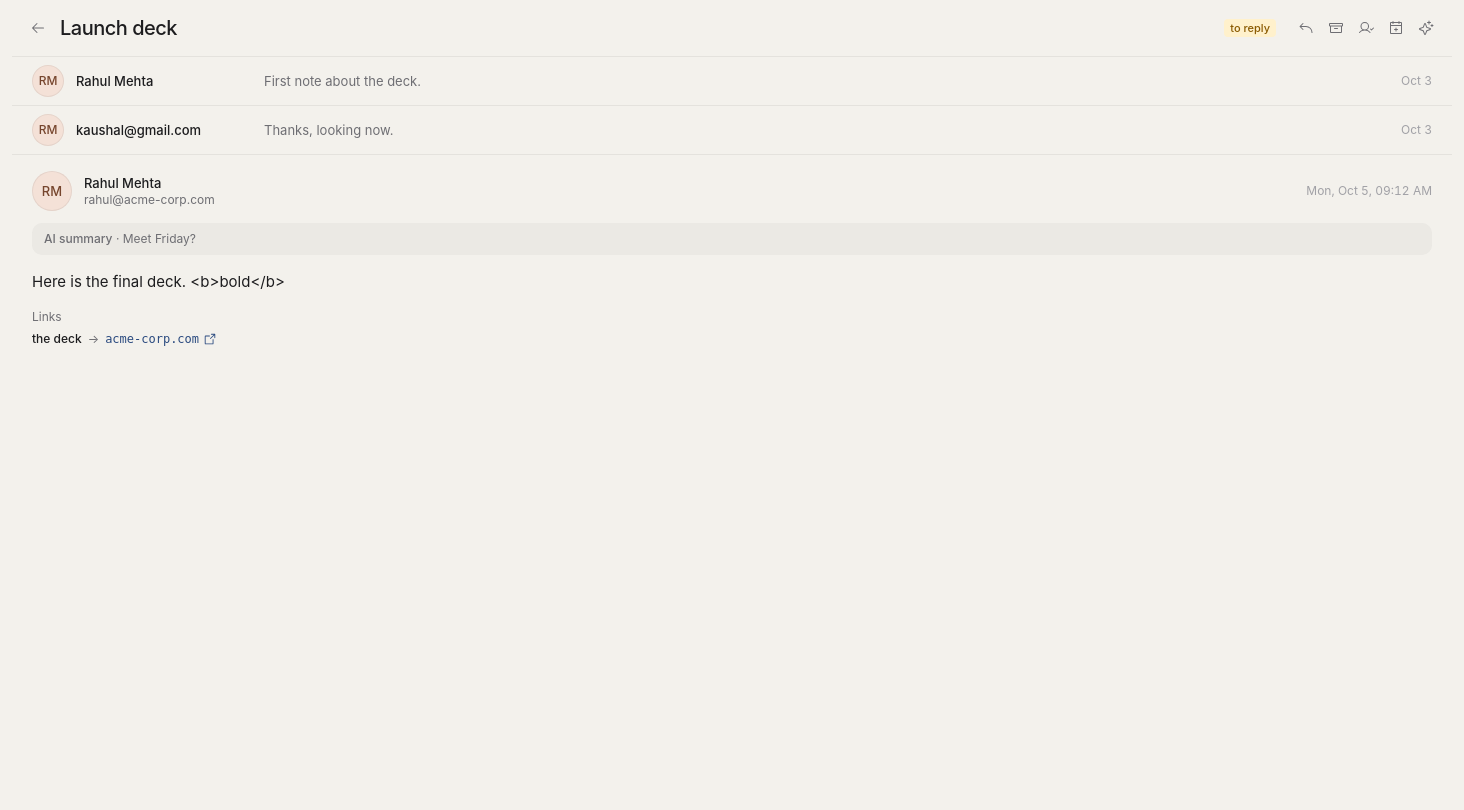
Scenario: ReadingView › offers Propose meeting only when times were found and saves the card
The image size is (1464, 810).
Click the button named "Propose meeting": (1396, 28) [1382,14,1410,42]
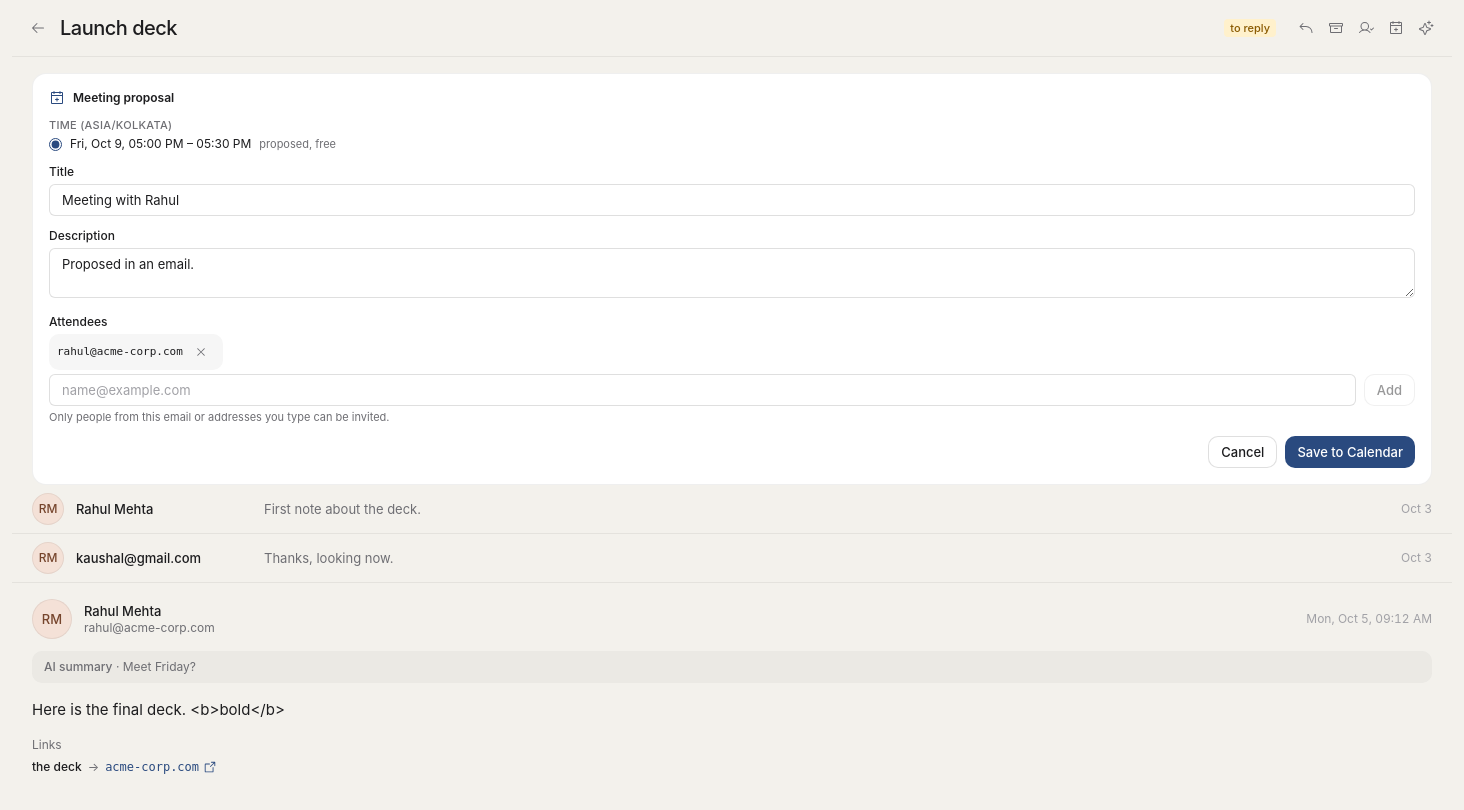
Expected: the element "Meeting proposal" is shown, [32,73,1432,485]
Click the button "Save to Calendar": (1350, 452) [1285,436,1415,468]
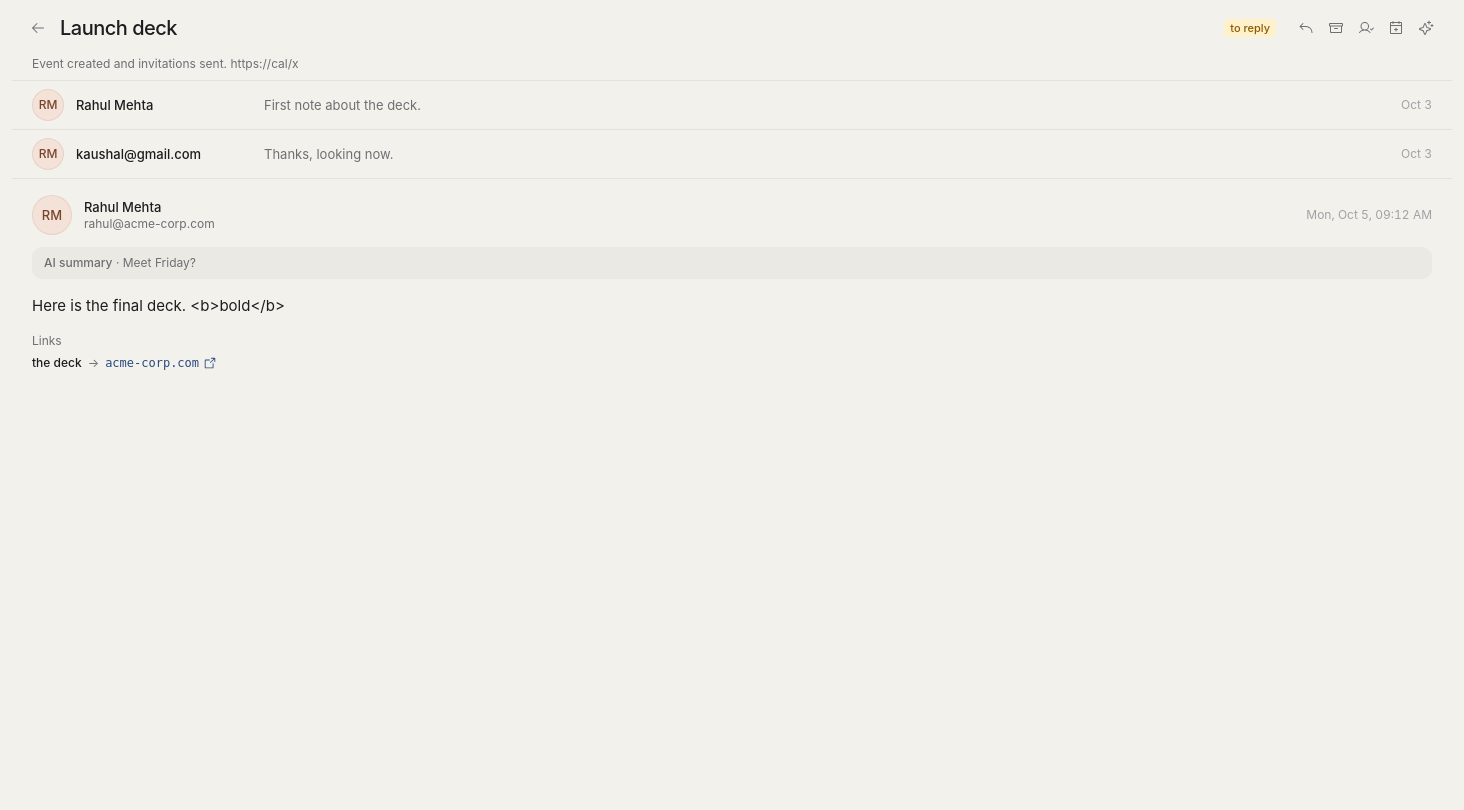
Expected: the message shows "Event created", [32,56,299,71]
Expected: the heading "Meeting proposal" is gone
